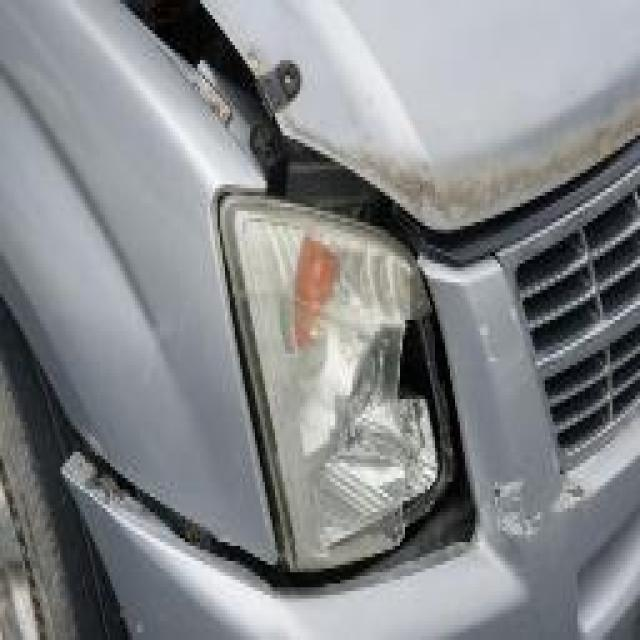Bumper: (470, 309, 575, 599)
Light: (240, 200, 452, 572)
